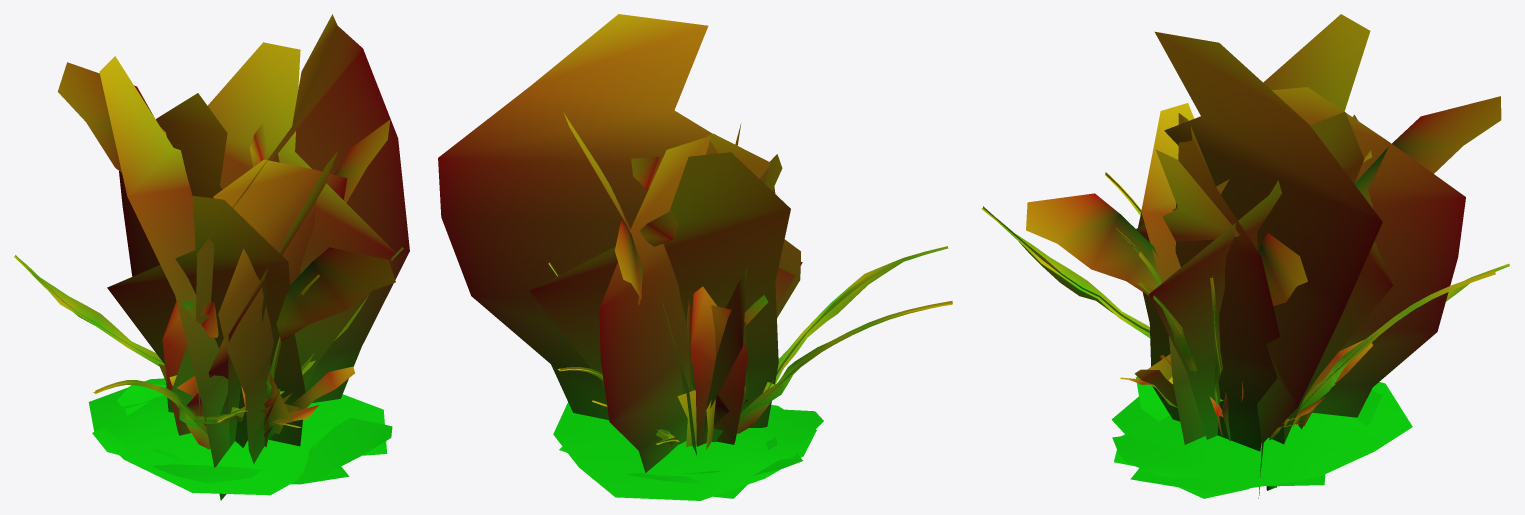
The model's file is Dead Finish_LOD0_Var3_ucokaamia.fbx.
3 renders of one model, left to right at view 1: azimuth 30°, elevation 25°; view 2: azimuth 150°, elevation 25°; view 3: azimuth 270°, elevation 25°, orthographic. The views are drawn at different scales.
Visible parts, largest first — view 1: _a270_Var3_LOD0; view 2: _a270_Var3_LOD0; view 3: _a270_Var3_LOD0.
Boxes of the visible parts, x1,y1,x2,y2 form: _a270_Var3_LOD0: (14, 14, 409, 500); _a270_Var3_LOD0: (438, 14, 952, 500); _a270_Var3_LOD0: (981, 14, 1509, 498).
Bounding box in the file's own units: 38.28 × 40.39 × 40.22.
